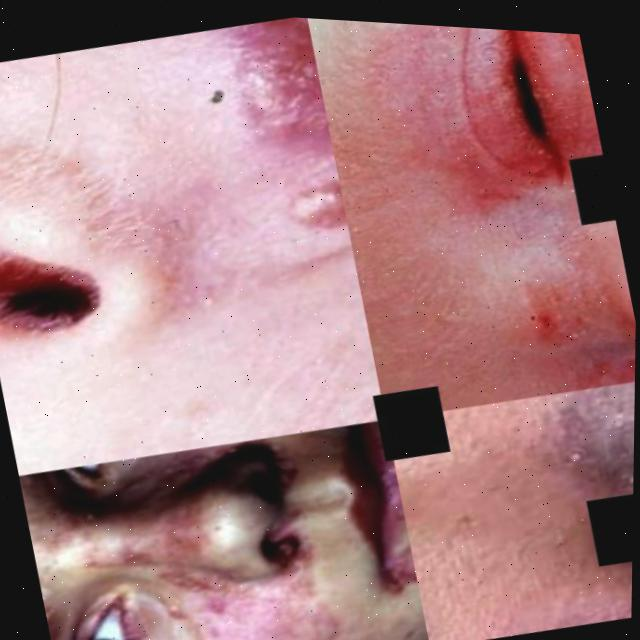lupus-detected: (337, 20, 640, 425), (96, 6, 384, 432), (34, 445, 406, 640), (45, 404, 377, 587), (262, 411, 433, 640), (408, 490, 633, 640), (500, 369, 635, 558)
